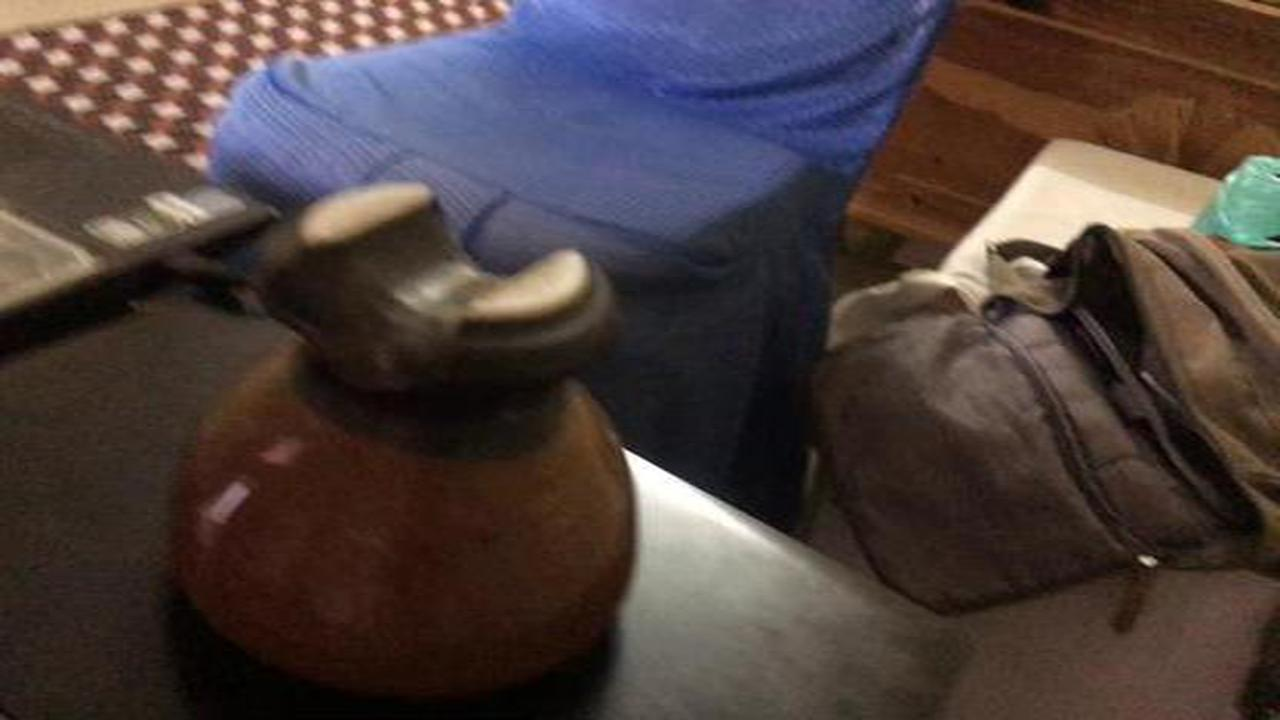insulator_pin: (148, 165, 659, 714)
